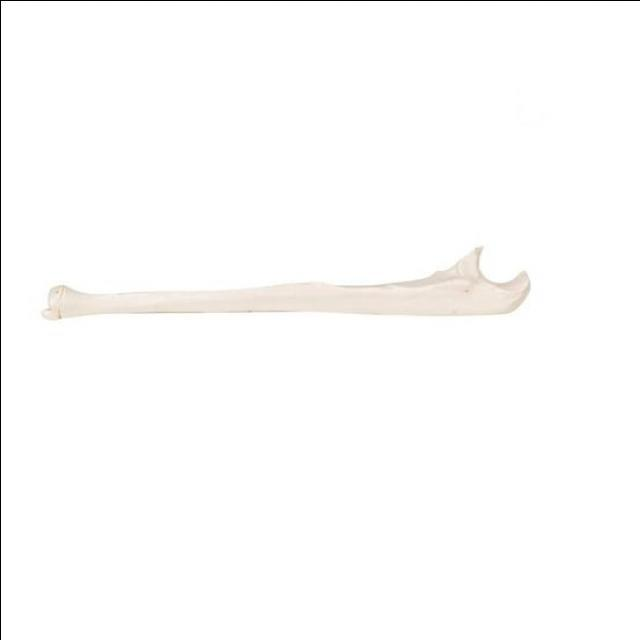bone: (36, 238, 534, 334)
